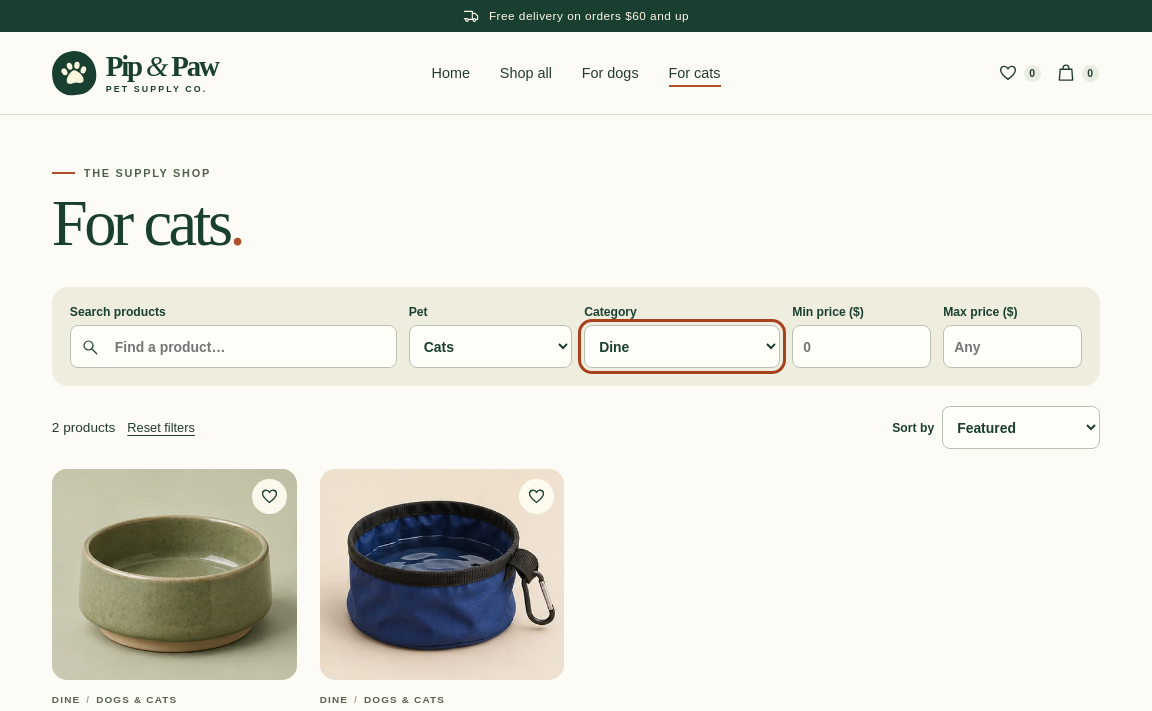
Scenario: shopping through the rendered application › combines name, pet, activity and inclusive price filters and sorts the visible cards
Earlier steps of the test are not shown.
Later steps or results of the test are not shown.
Type "bOwL" into the search field at (250, 347), box [105,326,396,367]
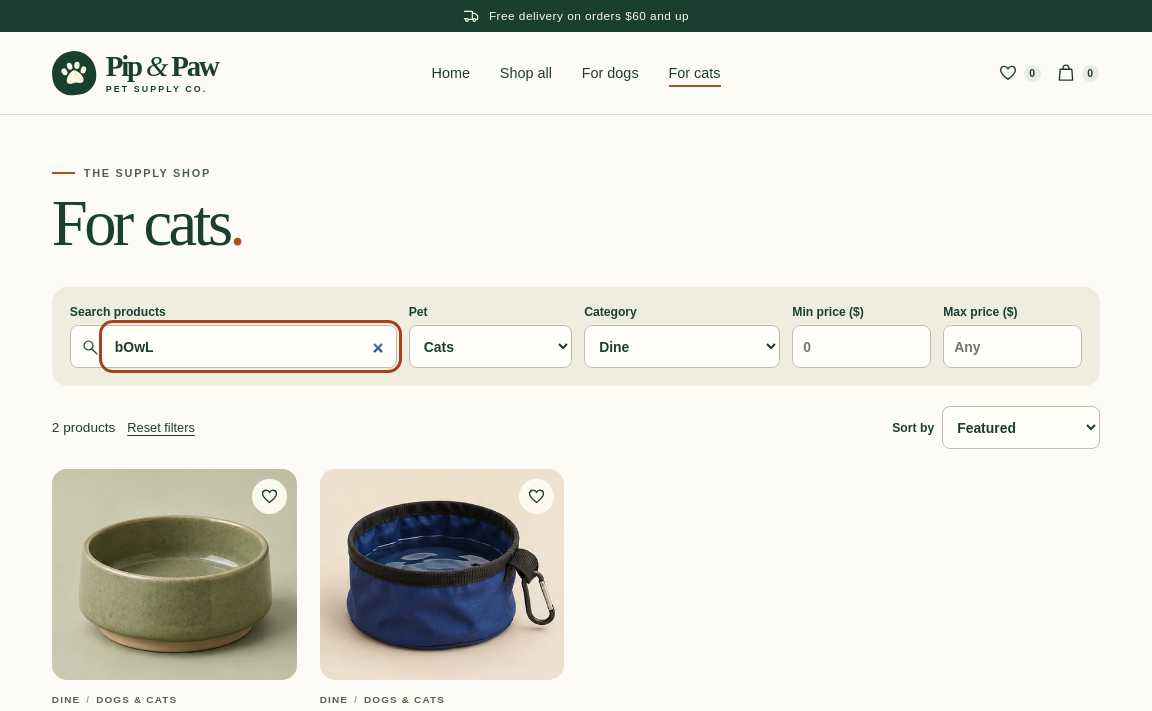
Type "18.50" into the number field labelled "Min price ($)" at (862, 347), box [792,325,931,368]
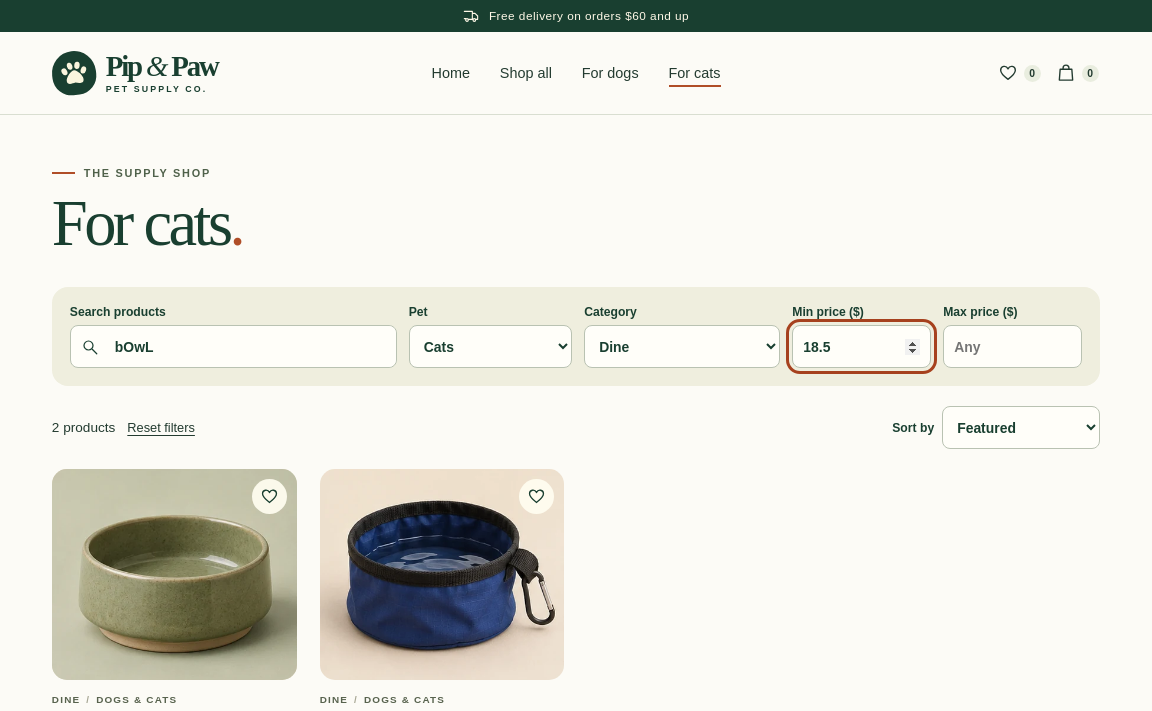
Type "24" into the number field labelled "Max price ($)" at (1013, 347), box [943,325,1082,368]
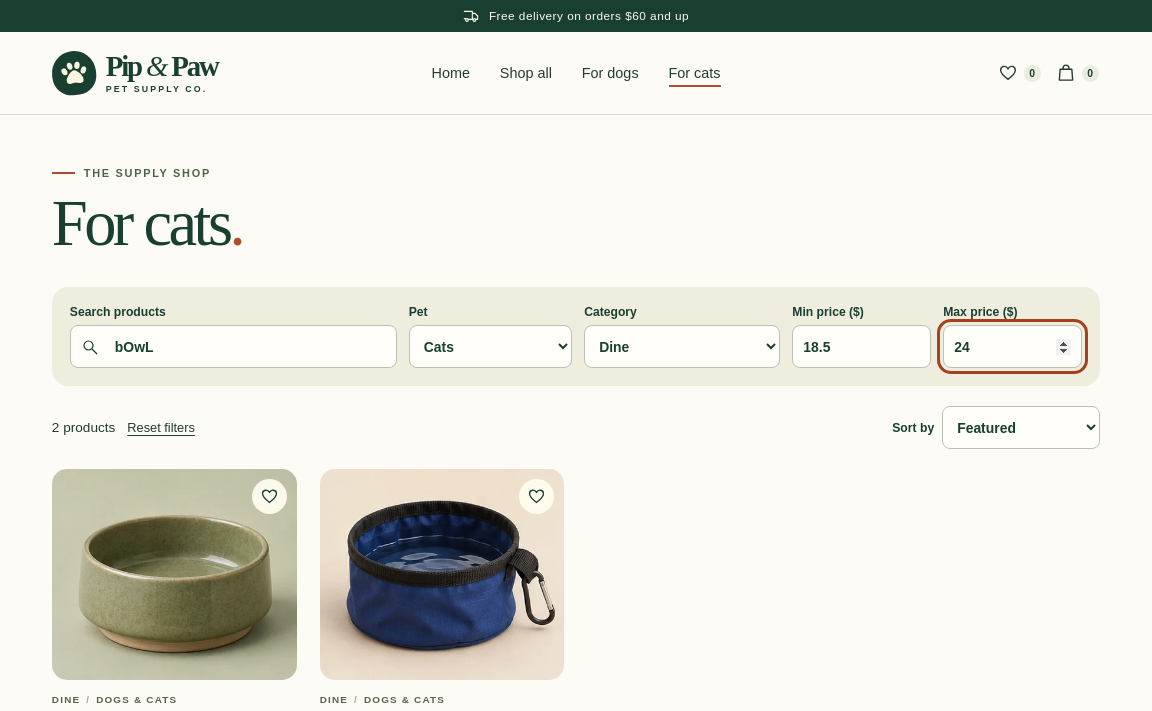
Select "Price: low to high" in the dropdown labelled "Sort by" at (1021, 428), box [942,406,1100,449]
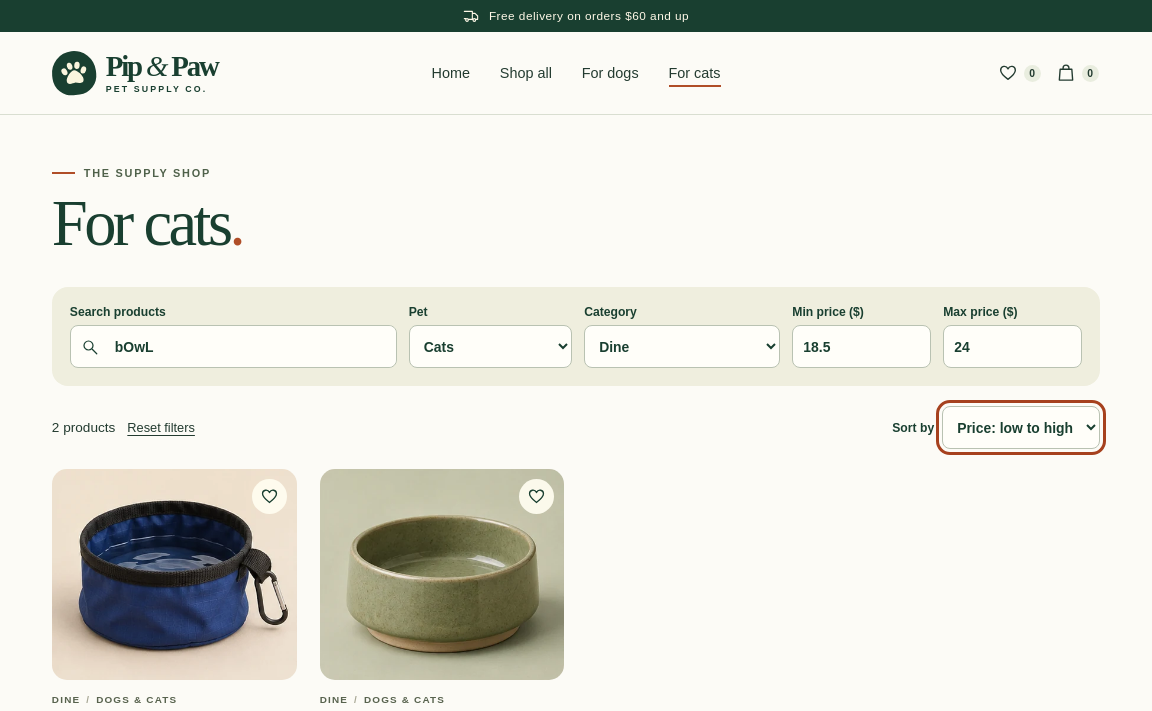
Select "Price: high to low" in the dropdown labelled "Sort by" at (1021, 428), box [942,406,1100,449]
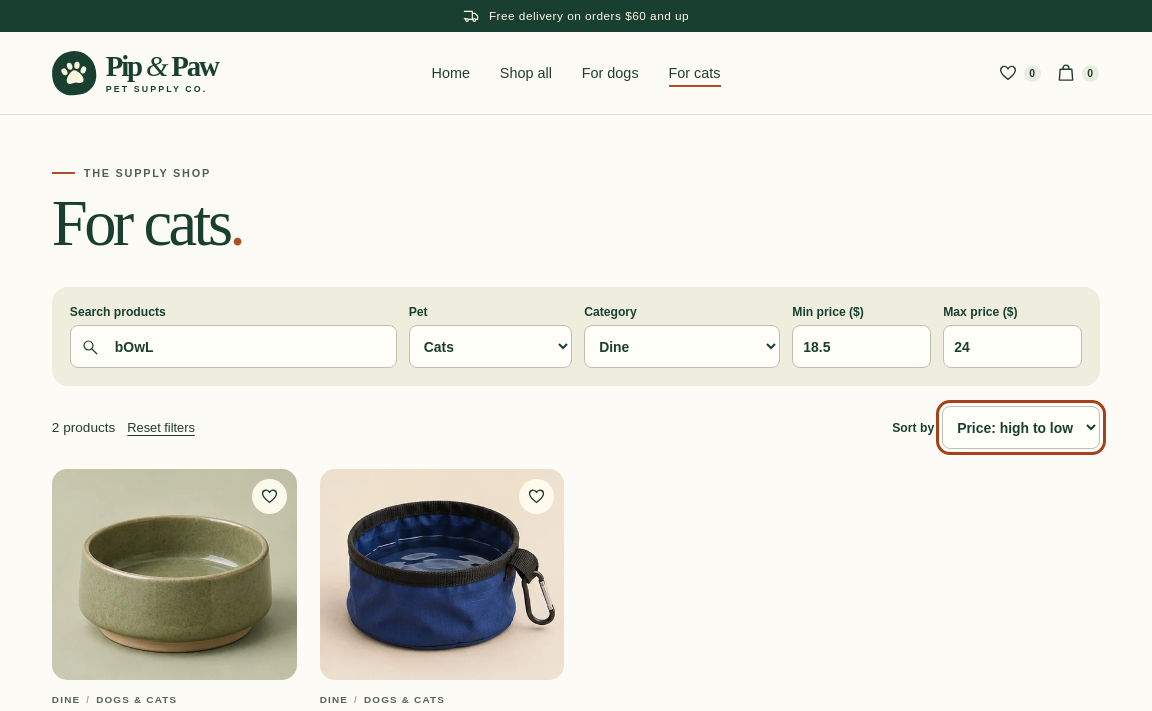
Type "zzz" into the search field at (250, 347), box [105,326,396,367]
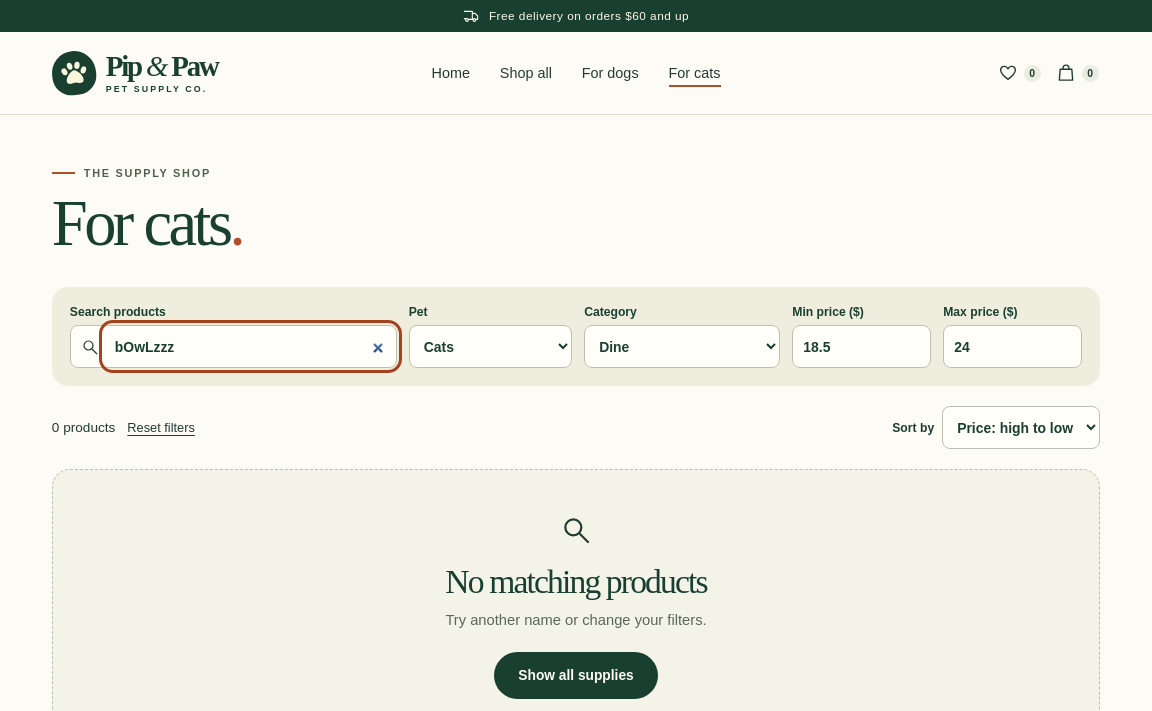
Check: the heading "No matching products" is shown, box [445,563,707,600]
